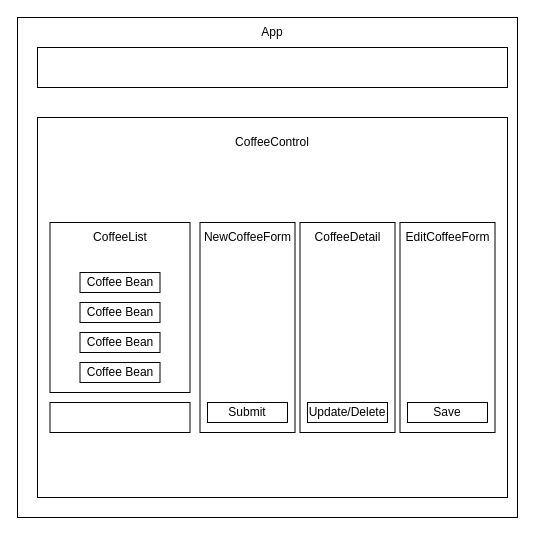
This 535x535 diagram has some shape labels left out. The box of each missing label's shape, as (x1, y1, x2, y2) in pixels:
Add Coffee: (49, 402, 190, 432)
Header: (36, 46, 508, 88)
